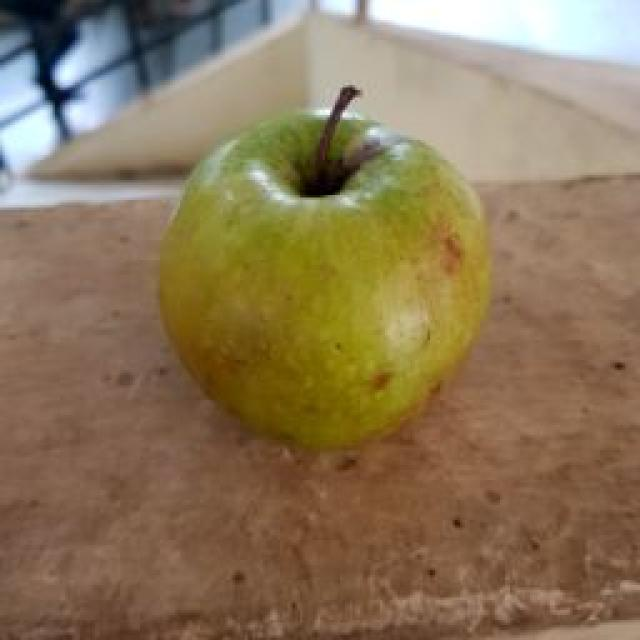Good_Apple: (160, 86, 490, 447)
